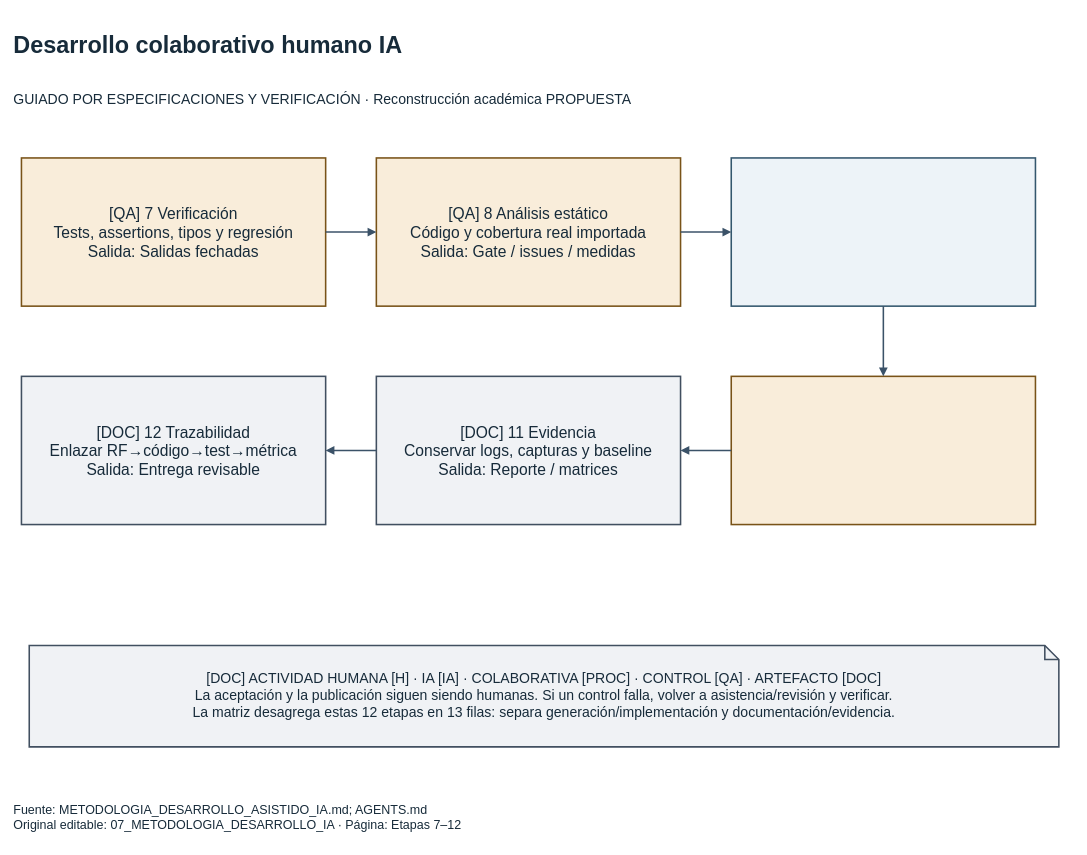
Image size: 1087x855. Some labels were removed from this diagram. The shapes that lost their labels are listed below. From the top down, each one's box as (x1, y1, x2, y2) in pixels, then its label:
(730, 157, 1036, 307): [PROC] 9 Corrección Cambio mínimo revisado Salida: FIXED comprobado por regla
(730, 375, 1036, 525): [QA] 10 Reevaluación Repetir y explicar denominadores Salida: Comparación V1/V2
